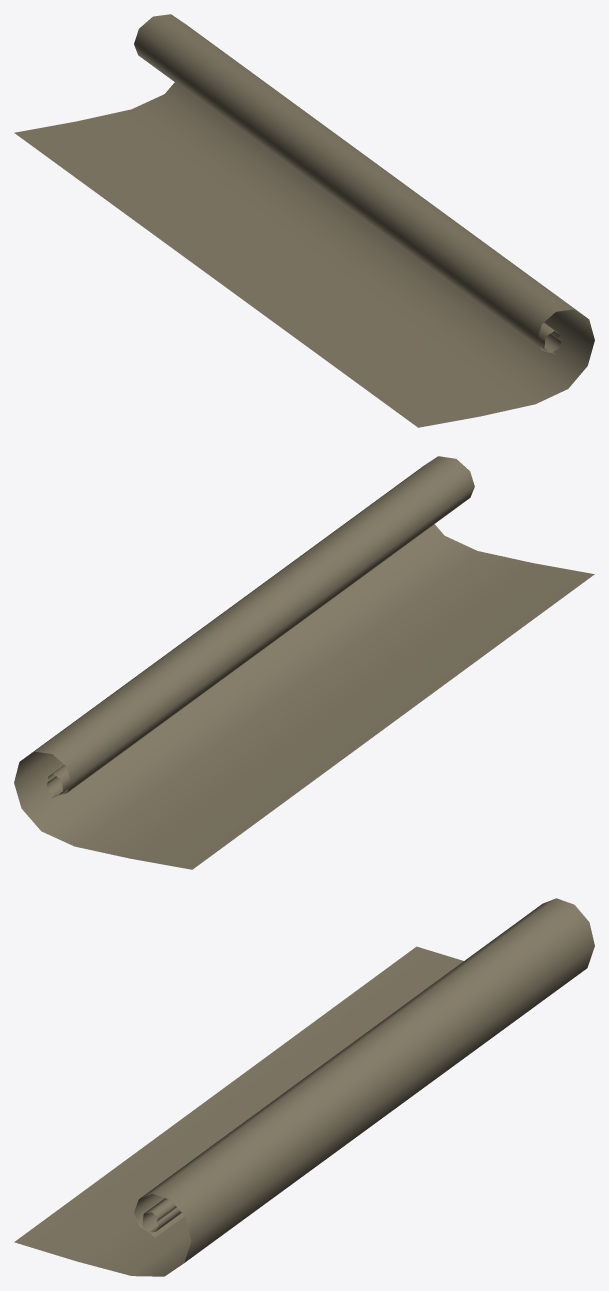
Rendered from pista .fbx.
3 renders of one model, top to bottom at view 1: azimuth 30°, elevation 25°; view 2: azimuth 150°, elevation 25°; view 3: azimuth 330°, elevation 25°, orthographic.
Visible parts, largest first — view 1: Plane; view 2: Plane; view 3: Plane.
Boxes of the visible parts, x1,y1,x2,y2 form: Plane: (14,14,594,427); Plane: (14,456,594,869); Plane: (14,898,594,1276).
Size of the model in its own units: 31.19 by 14.61 by 123.
